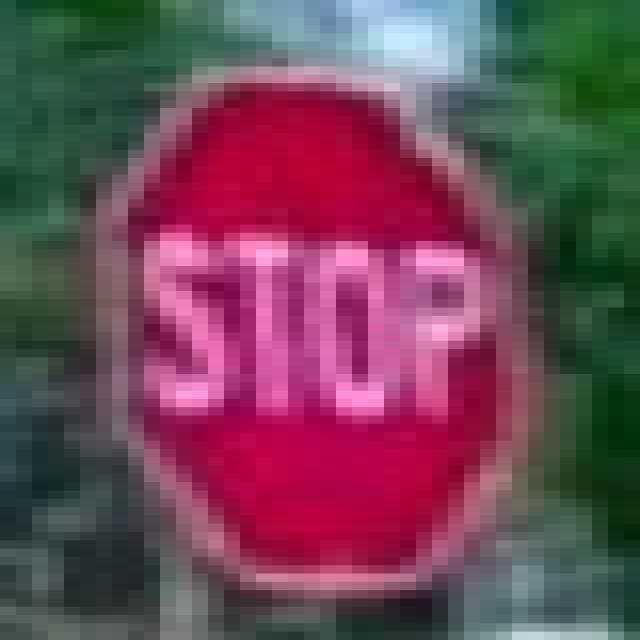Stop-Sign: (102, 80, 498, 565)
